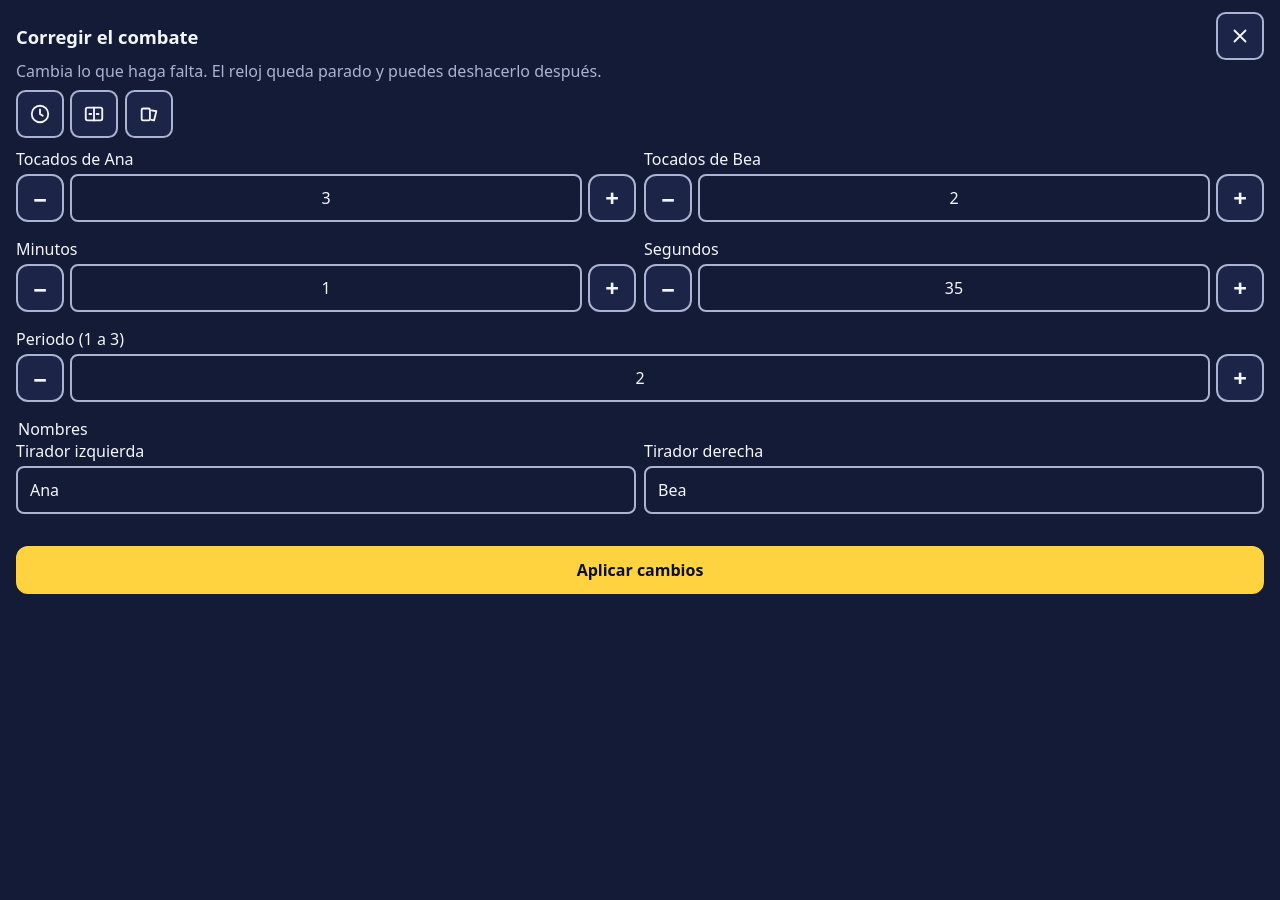
CorrectionSheet › clear cards can be switched off again before applying
Click the button named "Quitar tarjetas" at [149, 114], box [125,90,173,138]
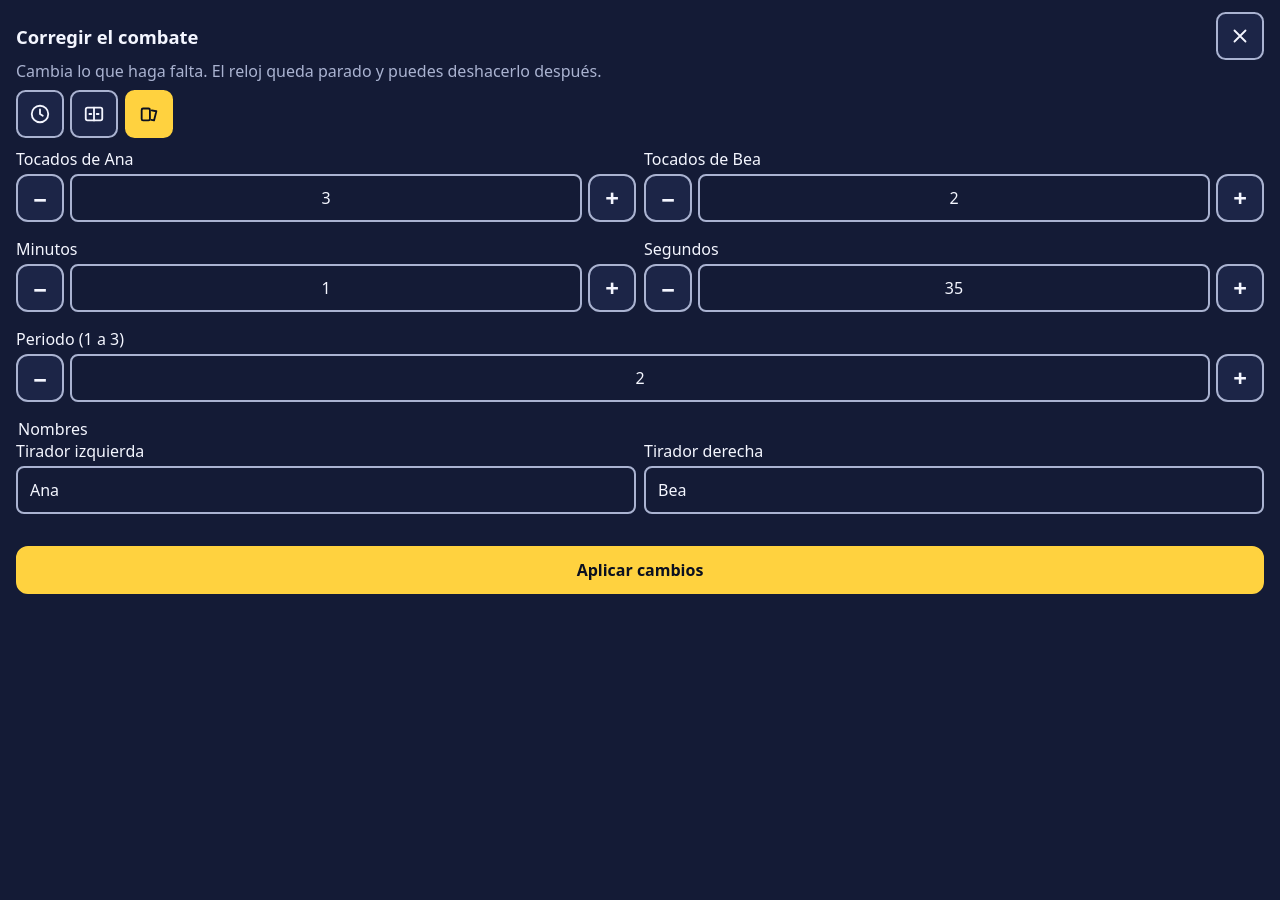
Click the button named "Quitar tarjetas" at [149, 114], box [125,90,173,138]
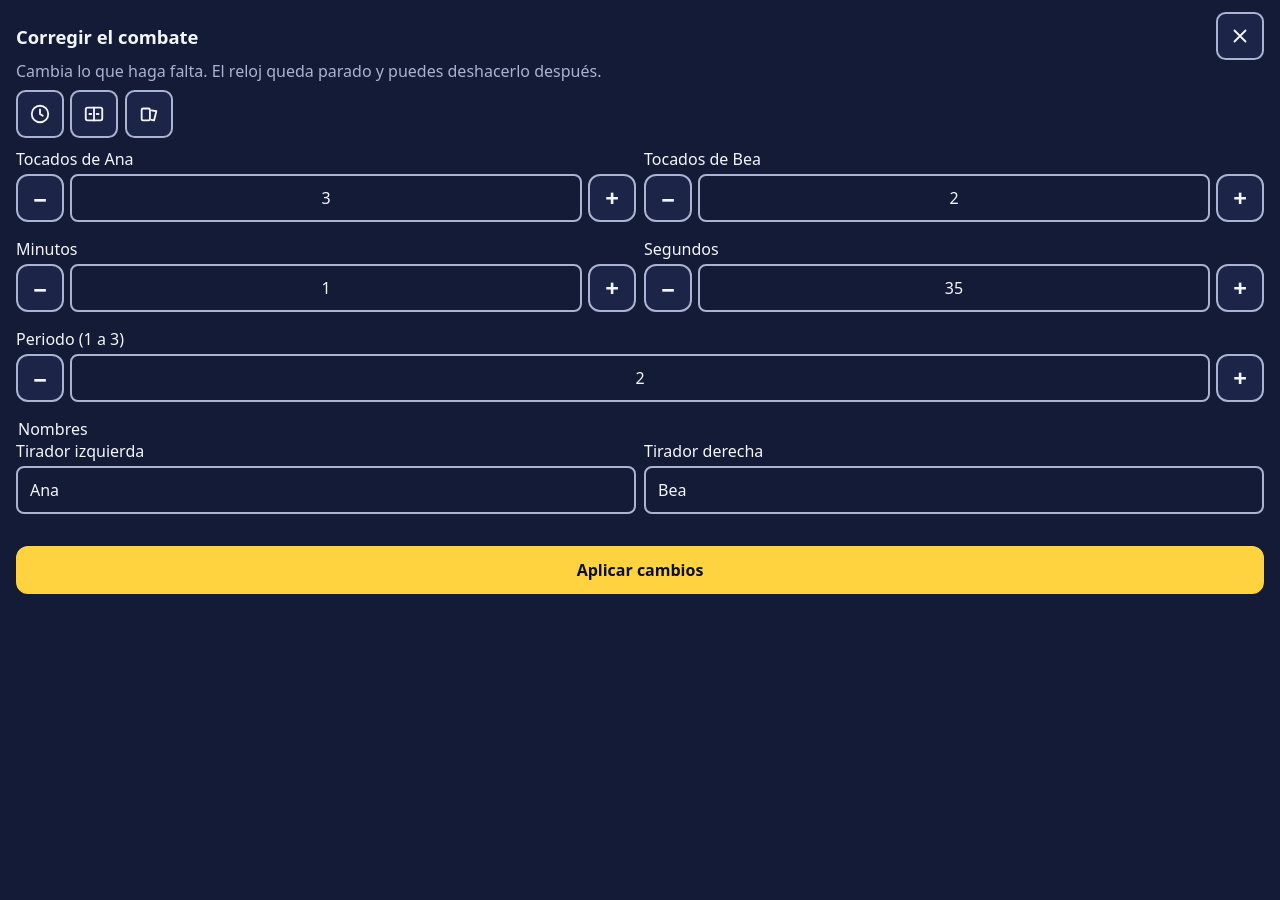
Click the button "Aplicar cambios" at [640, 570], box [16,546,1264,594]
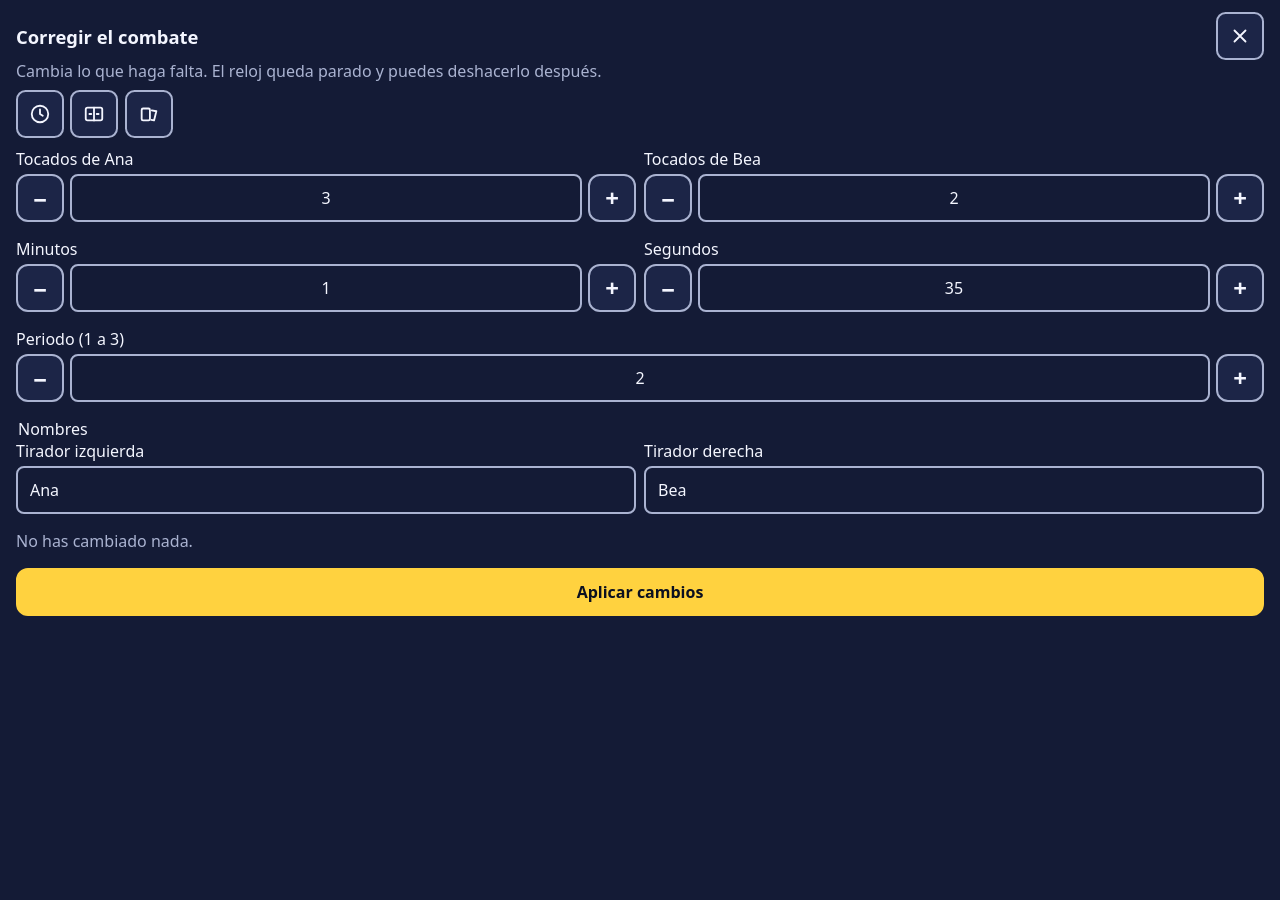
Check: the text "No has cambiado nada." is shown, box [16,530,193,552]
